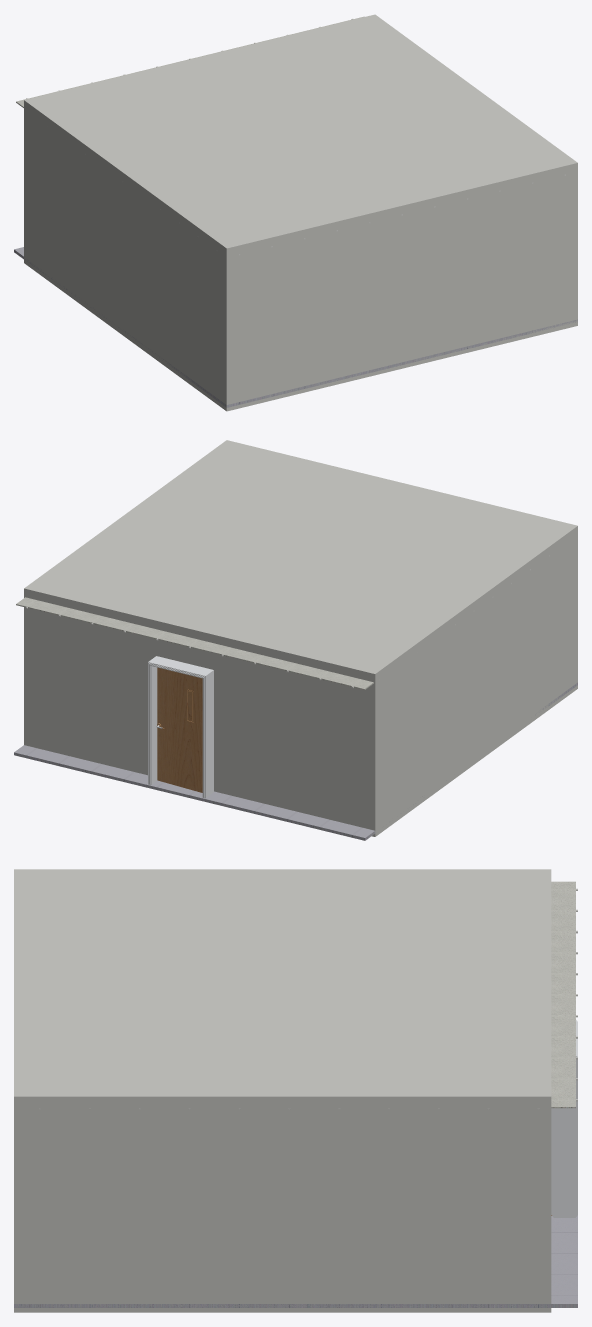
The model's file is infinigen-adult-ed-abdominal-bay.glb.
3 views of the same model, one above another, from view 1: azimuth 30°, elevation 25°; view 2: azimuth 150°, elevation 25°; view 3: azimuth 270°, elevation 25° (orthographic). The views are drawn at different scales.
Visible parts, largest first — view 1: bedroom_0/0.exterior, openclinxr_floor_field; view 2: bedroom_0/0.exterior, bedroom_0/0.door_leaf, openclinxr_floor_field, openclinxr_ceiling_tiles, bedroom_0/0.door_casing; view 3: bedroom_0/0.exterior, openclinxr_ceiling_tiles, openclinxr_floor_field, bedroom_0/0.door_casing.
Part boxes in pixels (<box>): bedroom_0/0.exterior: <box>24,14,577,411</box>; openclinxr_floor_field: <box>14,247,577,407</box>; bedroom_0/0.exterior: <box>24,440,577,836</box>; bedroom_0/0.door_leaf: <box>156,667,202,792</box>; openclinxr_floor_field: <box>14,682,577,840</box>; openclinxr_ceiling_tiles: <box>16,597,373,689</box>; bedroom_0/0.door_casing: <box>148,656,213,798</box>; bedroom_0/0.exterior: <box>14,869,551,1312</box>; openclinxr_ceiling_tiles: <box>551,881,575,1108</box>; openclinxr_floor_field: <box>14,1215,577,1307</box>; bedroom_0/0.door_casing: <box>551,1020,577,1217</box>.
Size of the model in its own units: 6.47 by 2.87 by 6.79.
Materials: 17 (10 with a texture image).
